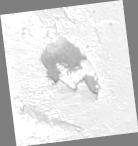paint-off: (1, 0, 138, 146)
